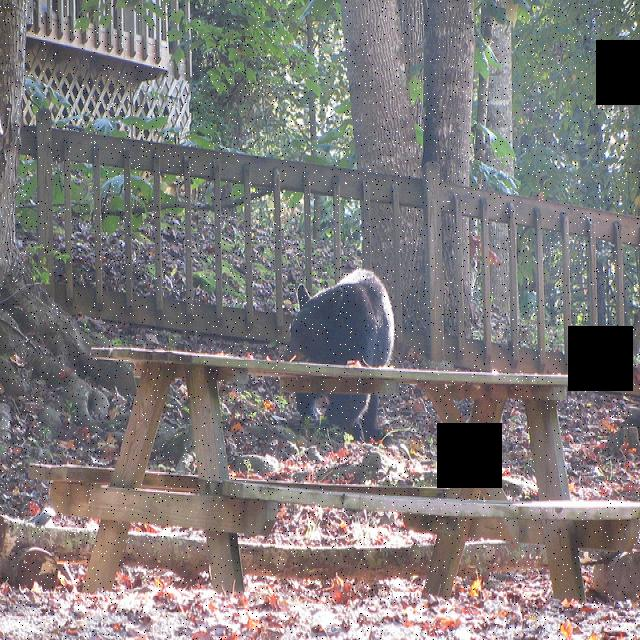Bear: (282, 262, 394, 433)
